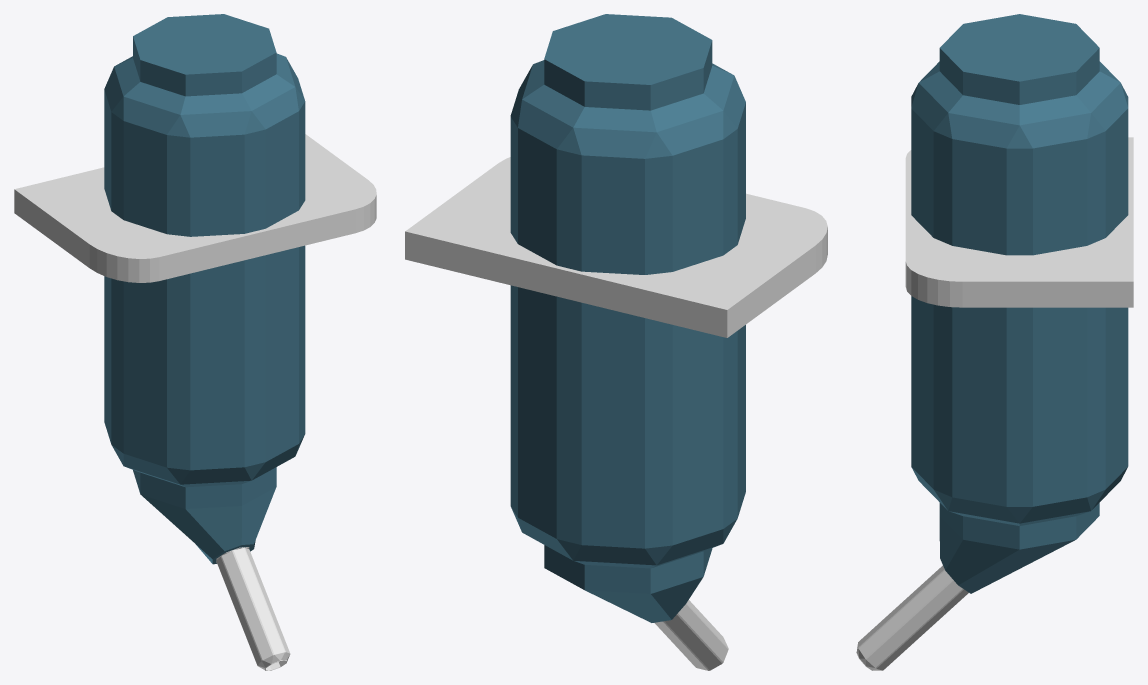
Rendered from schraubenspenderGLTF.gltf.
3 renders of one model, left to right at view 1: azimuth 30°, elevation 25°; view 2: azimuth 150°, elevation 25°; view 3: azimuth 270°, elevation 25°, orthographic. The views are drawn at different scales.
Parts seen in each view (by area): view 1: spender, Cube, rohr; view 2: spender, Cube, rohr; view 3: spender, Cube, rohr.
Part boxes in pixels (x1,y1,x2,y2): spender: (104,14,305,564); Cube: (14,134,376,282); rohr: (216,547,290,670); spender: (510,14,745,622); Cube: (405,157,827,337); rohr: (654,600,728,670); spender: (911,14,1128,593); Cube: (905,137,1133,307); rohr: (856,565,968,670).
Bounding box in the file's own units: 3 × 6.02 × 2.43.
